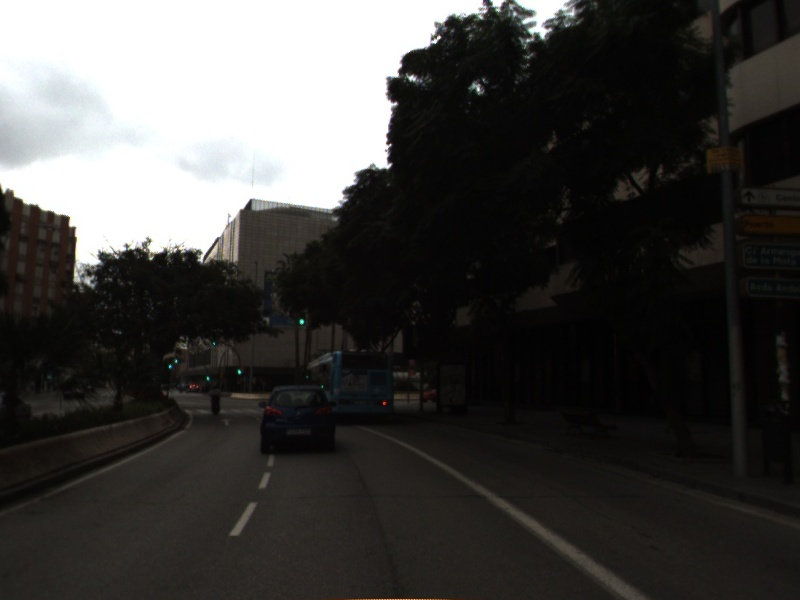STRAIGHT: (218, 417, 235, 428)
